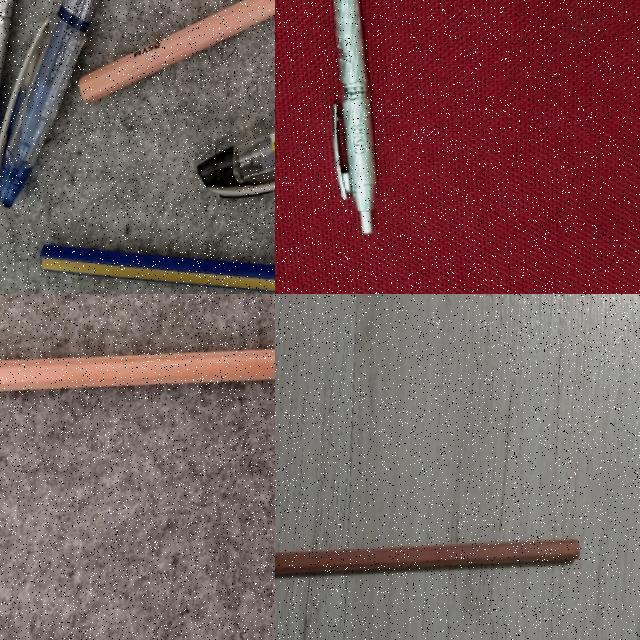pen: (0, 0, 96, 205)
pencil: (80, 0, 275, 101), (42, 218, 275, 294), (0, 350, 274, 391), (275, 540, 579, 574)
signature pen: (0, 0, 60, 229), (332, 0, 376, 233)
